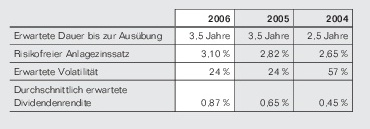table: (0, 0, 370, 129)
